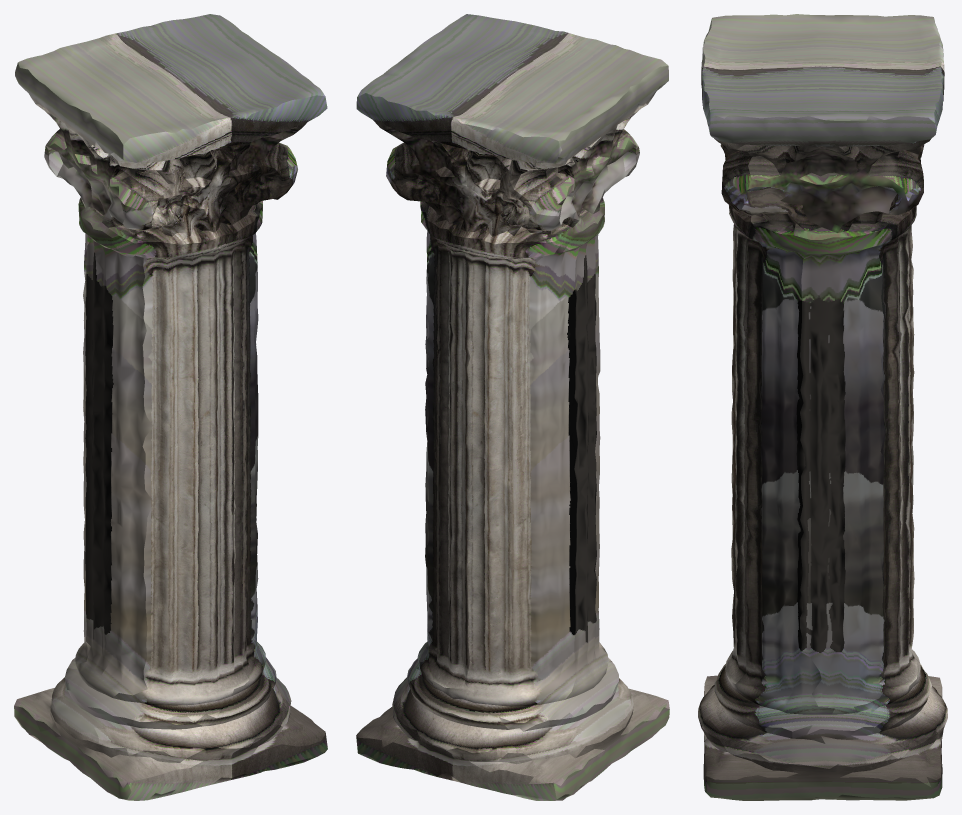
Rendered from gothic_pillar.glb.
3 renders of one model, left to right at view 1: azimuth 30°, elevation 25°; view 2: azimuth 150°, elevation 25°; view 3: azimuth 270°, elevation 25°, orthographic. The views are drawn at different scales.
Parts seen in each view (by area): view 1: geometry_0; view 2: geometry_0; view 3: geometry_0.
Boxes of the visible parts, x1,y1,x2,y2 form: geometry_0: (14, 14, 327, 800); geometry_0: (356, 14, 669, 800); geometry_0: (698, 14, 947, 800).
Size of the model in its own units: 1.98 by 6 by 1.98.
Materials: 1 (1 with a texture image).
